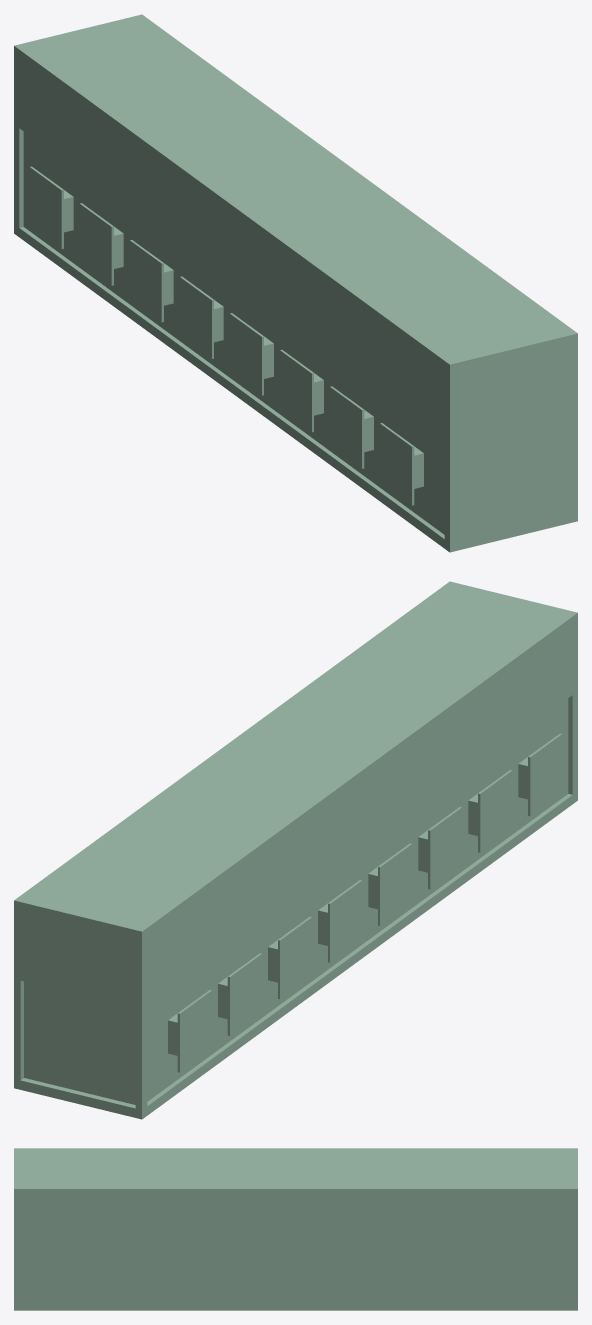
Rendered from engineTop.fbx.
The picture shows the model from 3 angles, top to bottom: view 1: azimuth 30°, elevation 25°; view 2: azimuth 150°, elevation 25°; view 3: azimuth 270°, elevation 25°; orthographic projection. The views are drawn at different scales.
Parts seen in each view (by area): view 1: engineTop; view 2: engineTop; view 3: engineTop.
Boxes of the visible parts, x1,y1,x2,y2 form: engineTop: [14, 14, 577, 552]; engineTop: [14, 581, 577, 1119]; engineTop: [14, 1148, 577, 1310].
Bounding box in the file's own units: 230 × 297 × 1250.
1 material, 1 textured.
